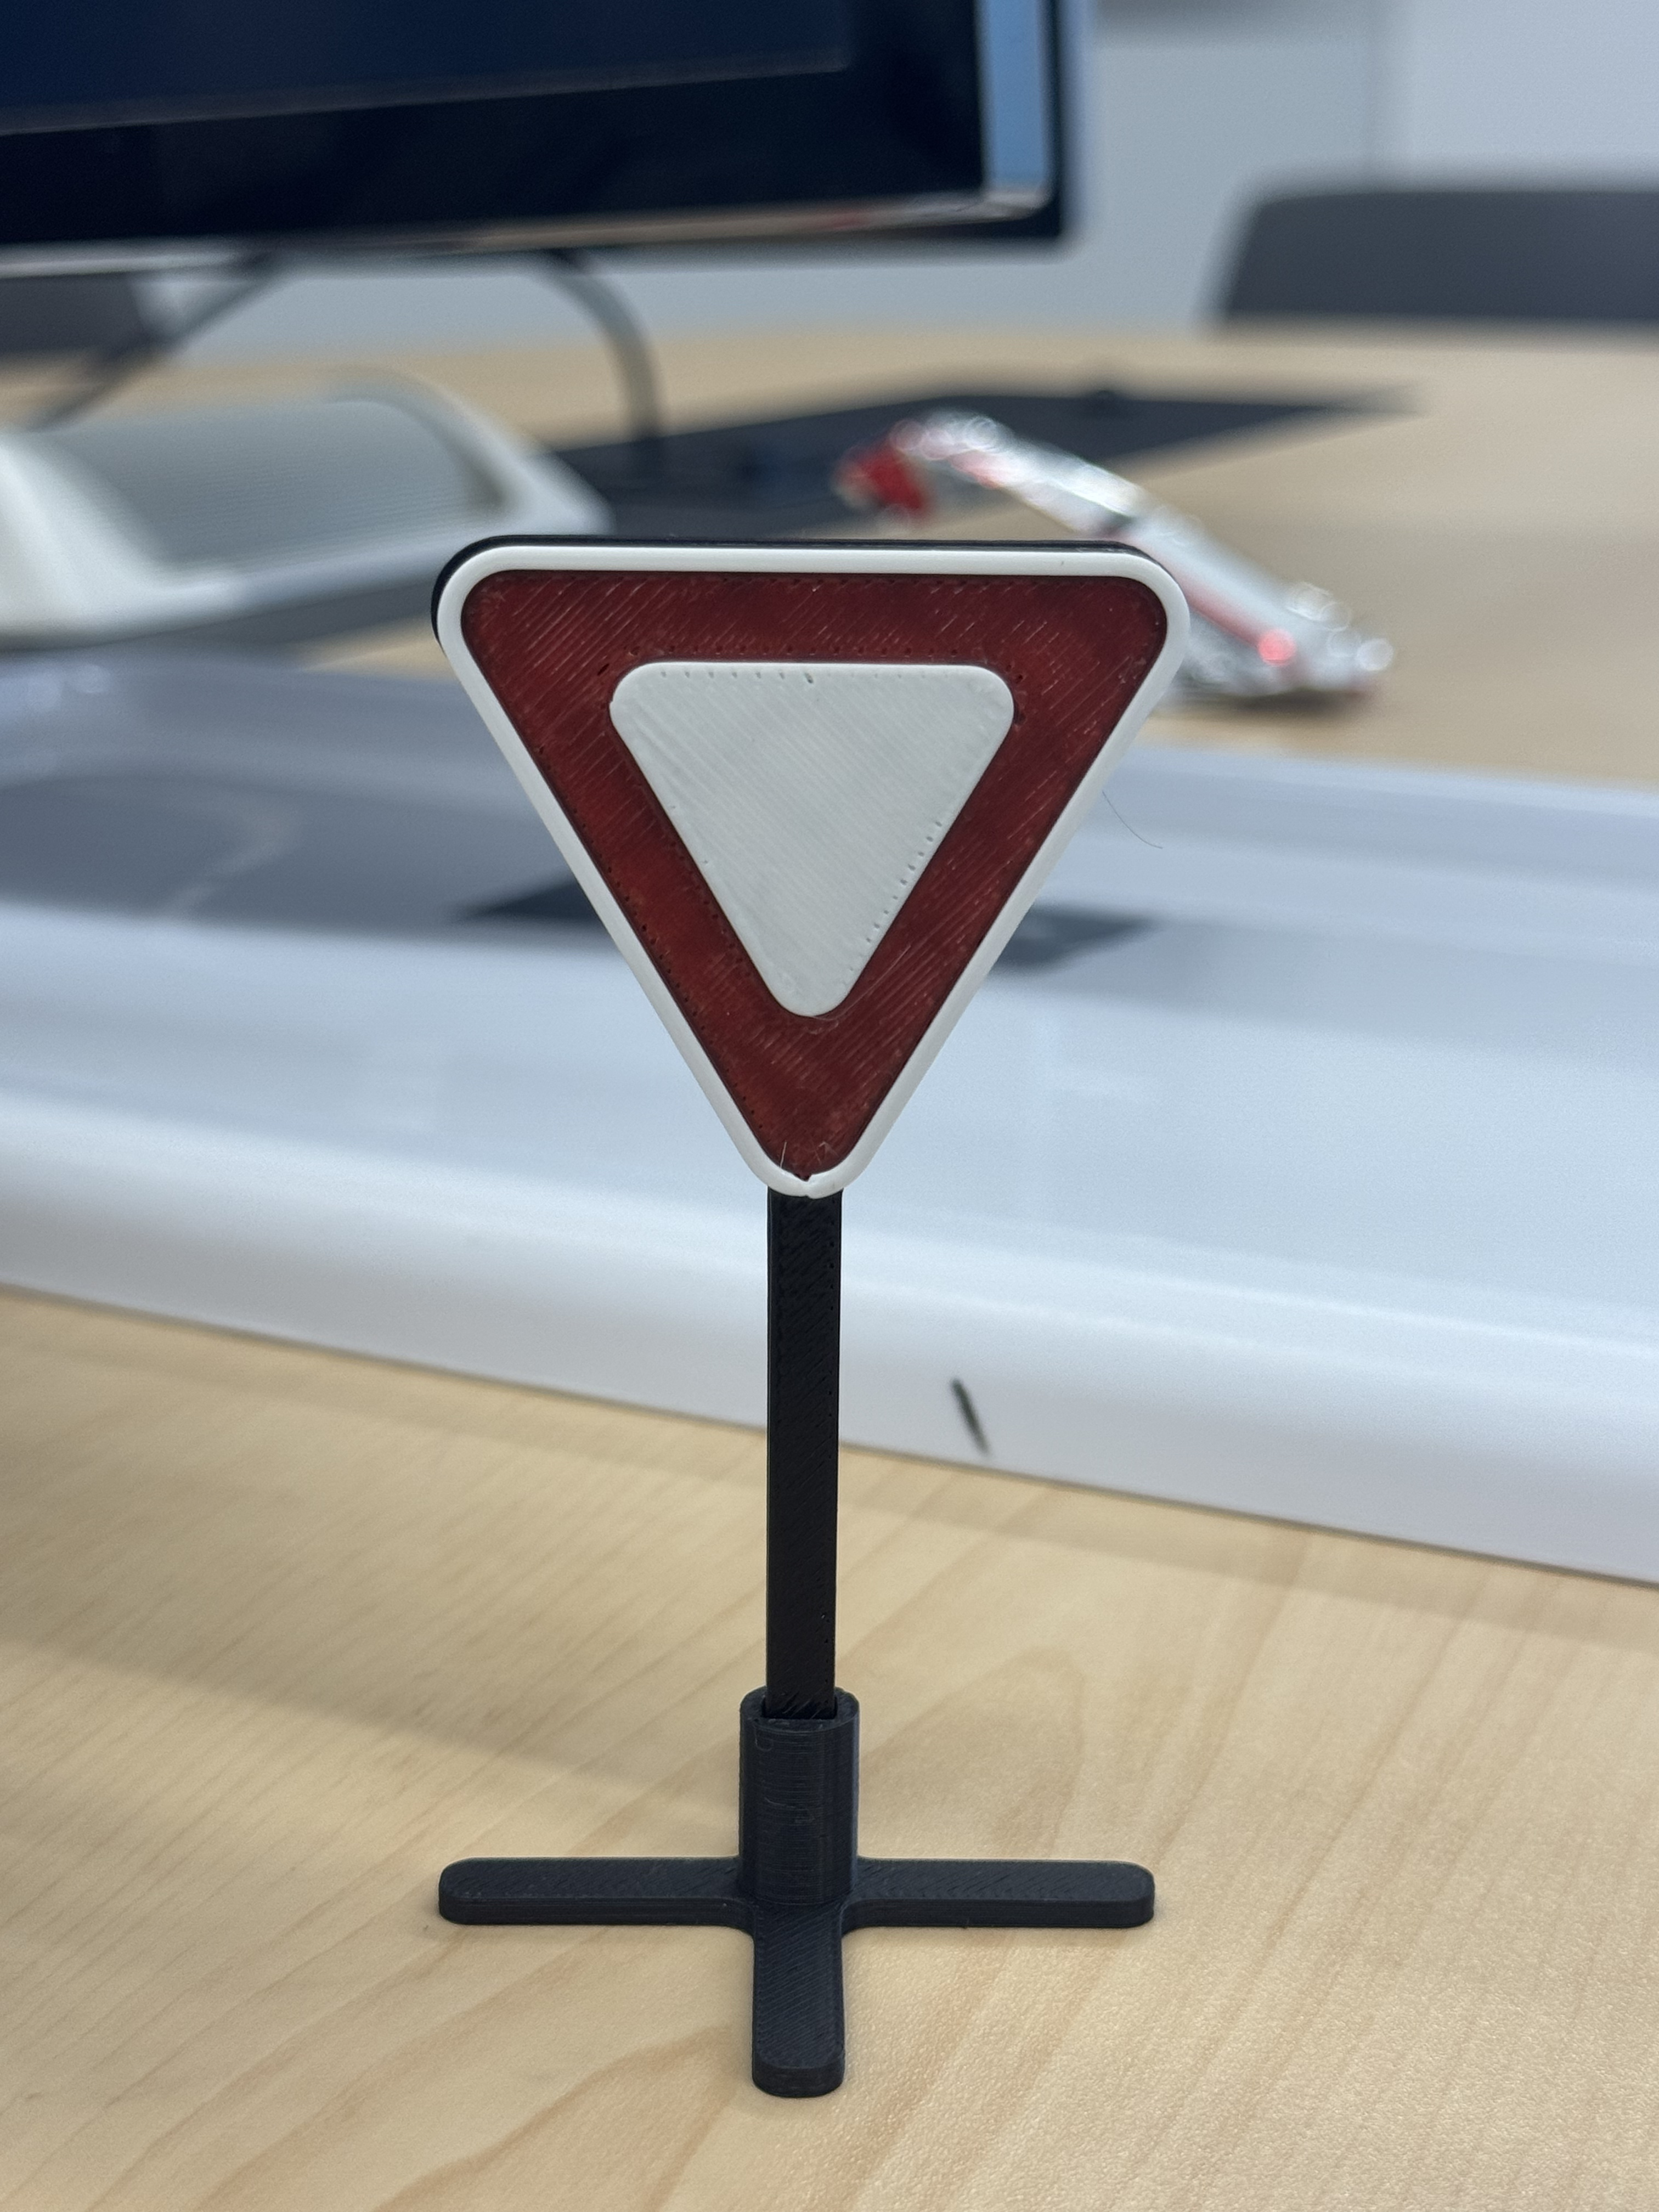sign_yield: (416, 521, 1204, 2111)
